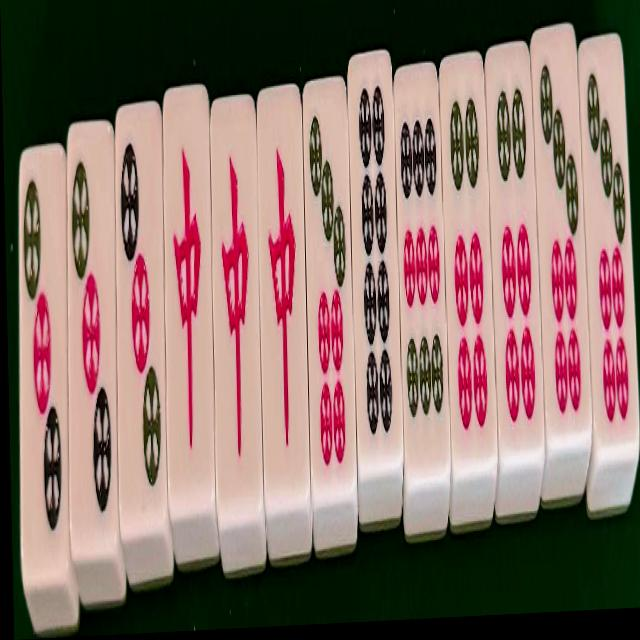3D: (66, 137, 118, 513), (20, 157, 69, 537), (117, 131, 167, 491)
6D: (491, 51, 539, 446), (442, 74, 491, 453)
7D: (581, 52, 635, 442), (535, 35, 585, 428), (305, 101, 355, 477)
8D: (351, 62, 400, 451)
9D: (398, 82, 448, 453)
RD: (258, 107, 309, 485), (164, 108, 214, 479), (212, 119, 260, 489)
